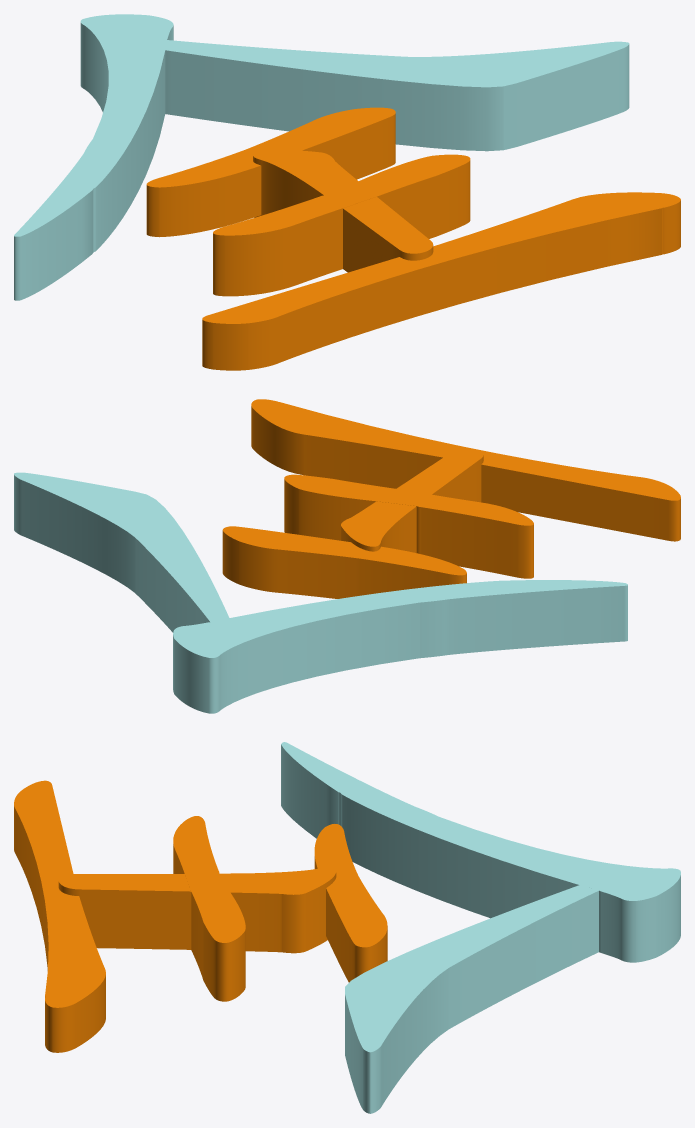
File: hanzi46.fbx
3 views of the same model, one above another, from view 1: azimuth 30°, elevation 25°; view 2: azimuth 150°, elevation 25°; view 3: azimuth 270°, elevation 25° (orthographic). The views are drawn at different scales.
Parts seen in each view (by area): view 1: Curve.001, Curve.005, Curve, Curve.003, Curve.002, Curve.004; view 2: Curve, Curve.005, Curve.001, Curve.003, Curve.002, Curve.004; view 3: Curve, Curve.001, Curve.004, Curve.005, Curve.003, Curve.002.
Part boxes in pixels (x1,y1,x2,y2): Curve.001: [165, 40, 629, 151]; Curve.005: [202, 192, 680, 370]; Curve: [14, 14, 173, 300]; Curve.003: [213, 154, 470, 296]; Curve.002: [146, 107, 395, 237]; Curve.004: [253, 150, 433, 272]; Curve: [173, 580, 627, 713]; Curve.005: [251, 399, 680, 541]; Curve.001: [14, 472, 229, 632]; Curve.003: [284, 474, 533, 578]; Curve.002: [222, 526, 466, 598]; Curve.004: [341, 449, 483, 552]; Curve: [281, 742, 680, 962]; Curve.001: [345, 885, 598, 1113]; Curve.004: [58, 867, 336, 953]; Curve.005: [14, 780, 105, 1052]; Curve.003: [173, 816, 245, 1001]; Curve.002: [314, 824, 387, 982].
Size of the model in its own units: 25.34 by 23.03 by 2.35.
